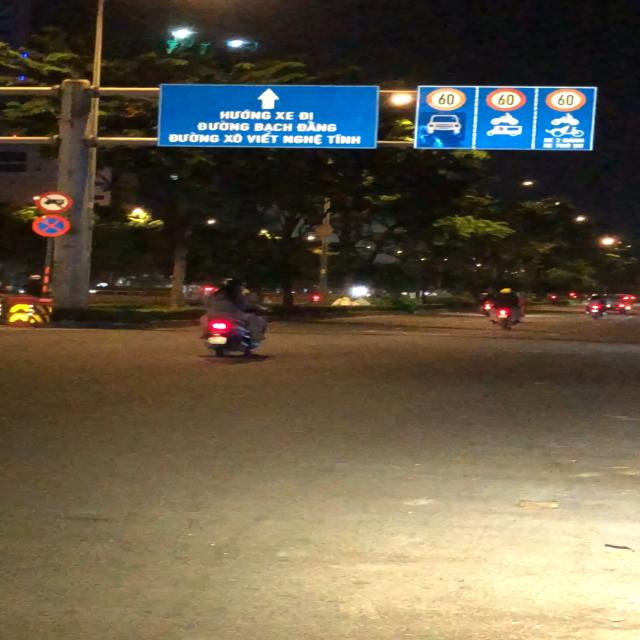Bien bao cam dung xe va do xe: (29, 213, 75, 240)
Bien bao cam xe oto tai: (32, 190, 76, 213)
Bien bao toc do toi da cho phep: (484, 86, 530, 113), (542, 88, 589, 113), (422, 86, 467, 112)
